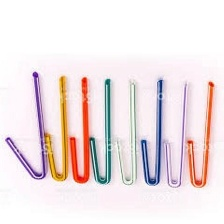drinking_straw: (1, 68, 49, 184), (185, 78, 215, 192), (138, 75, 167, 190), (113, 78, 140, 191), (68, 73, 92, 189)
